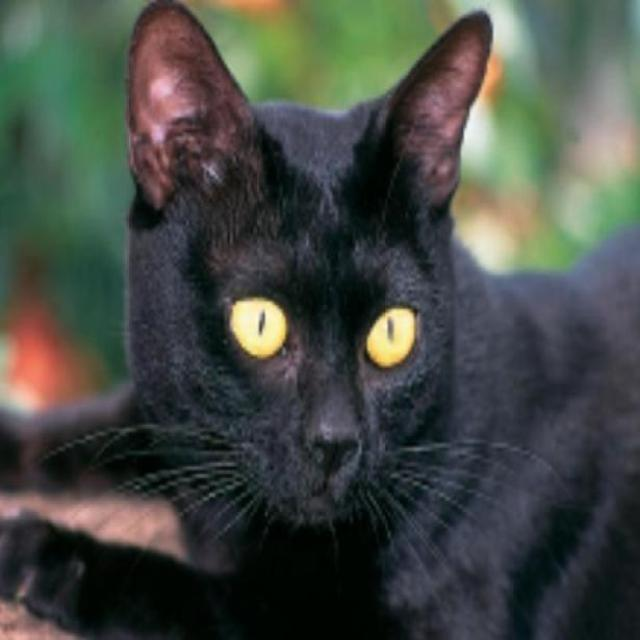Bombay: (112, 0, 505, 547)
